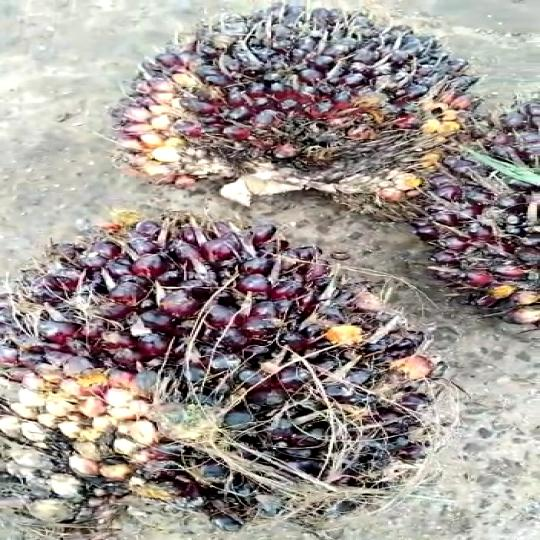kurang masak: (0, 210, 459, 532), (117, 0, 498, 212)
